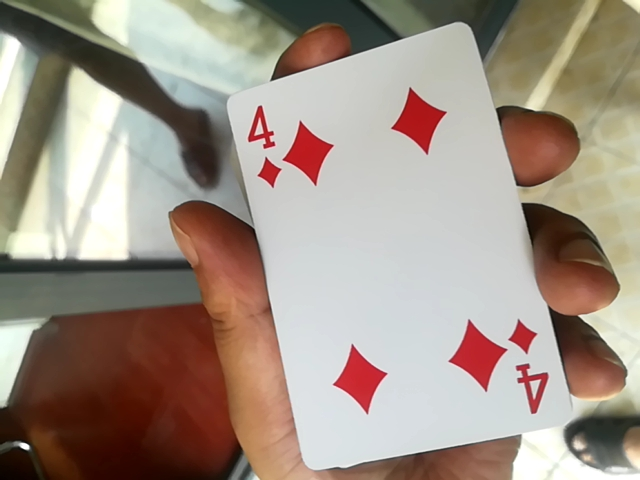fk 4: (217, 25, 574, 461)
